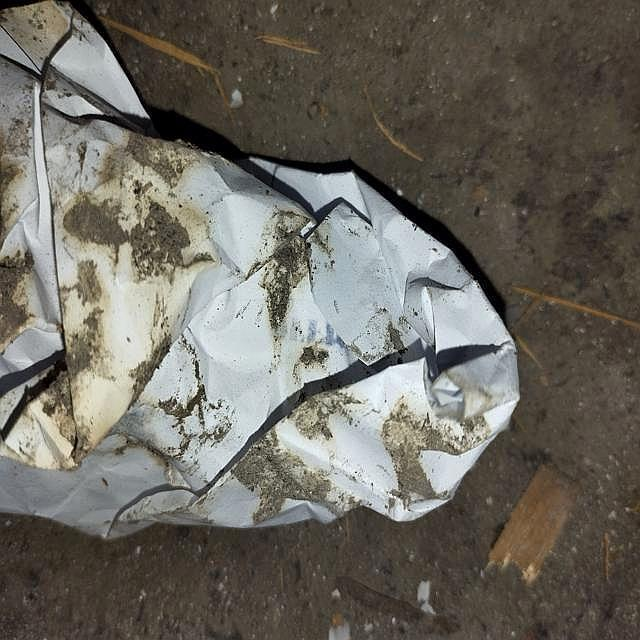Biodegradable: (1, 1, 523, 533)
